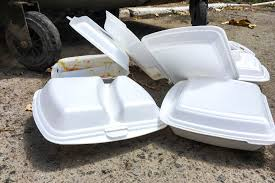styrofoam: (33, 76, 168, 145), (159, 77, 275, 150), (50, 16, 131, 75)
